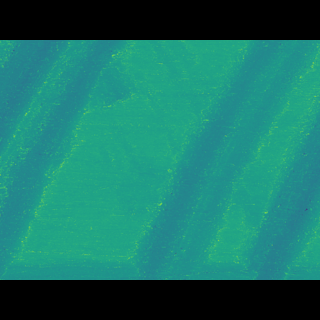Loch: (130, 70, 320, 249), (0, 70, 126, 247)
